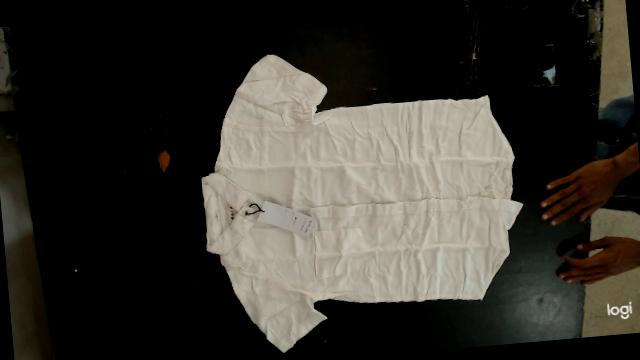new-garment: (202, 55, 522, 351)
